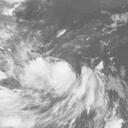cyclone: (18, 56, 78, 98)
